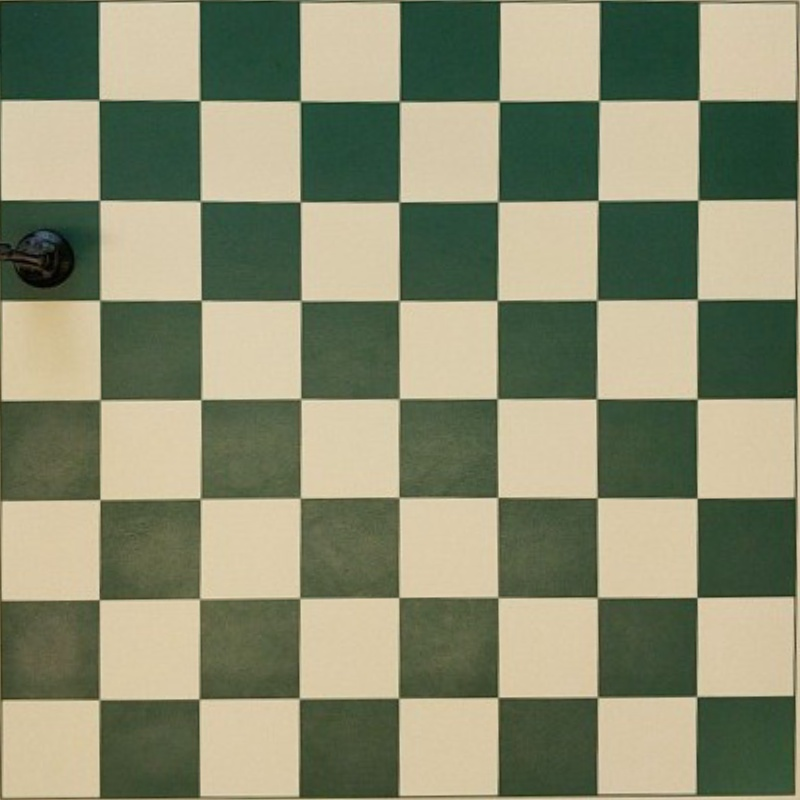black-knight: (0, 227, 74, 288)
